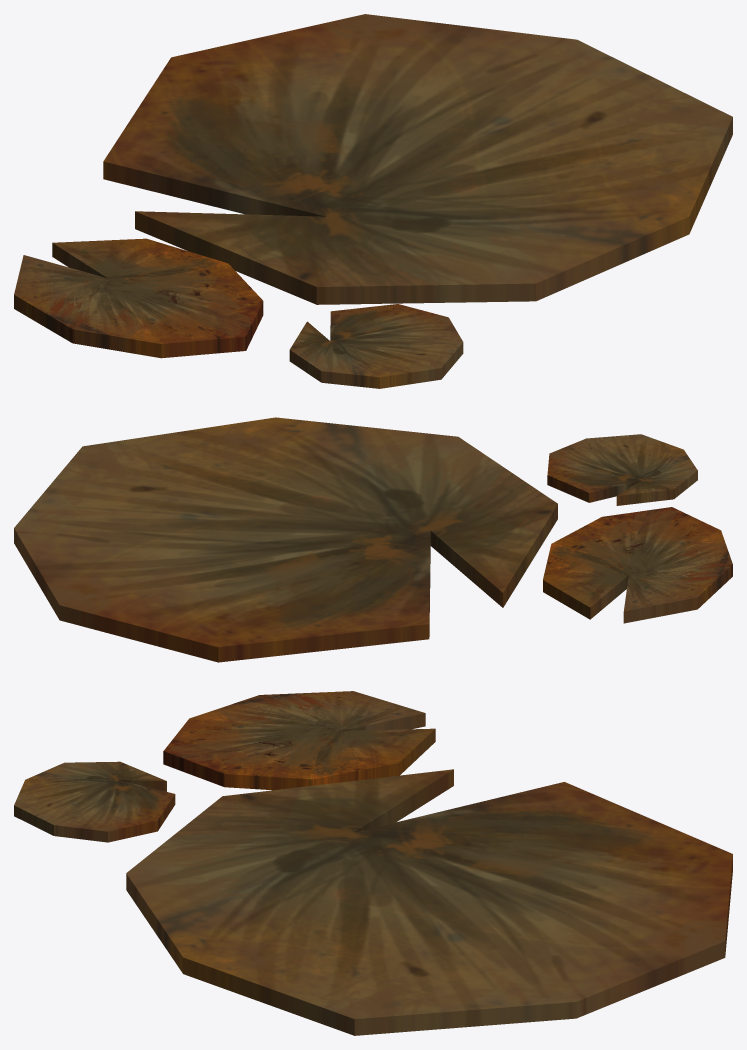
File: lilly_pads4.fbx
3 renders of one model, top to bottom at view 1: azimuth 30°, elevation 25°; view 2: azimuth 150°, elevation 25°; view 3: azimuth 270°, elevation 25°, orthographic. The views are drawn at different scales.
Parts seen in each view (by area): view 1: polySurface14; view 2: polySurface14; view 3: polySurface14.
Boxes of the visible parts, left/top/right/bottom form: polySurface14: left=14, top=14, right=732, bottom=388; polySurface14: left=14, top=417, right=732, bottom=662; polySurface14: left=14, top=691, right=732, bottom=1035.
Bounding box in the file's own units: 97.01 × 2.29 × 89.37.
Materials: 1 (1 with a texture image).
